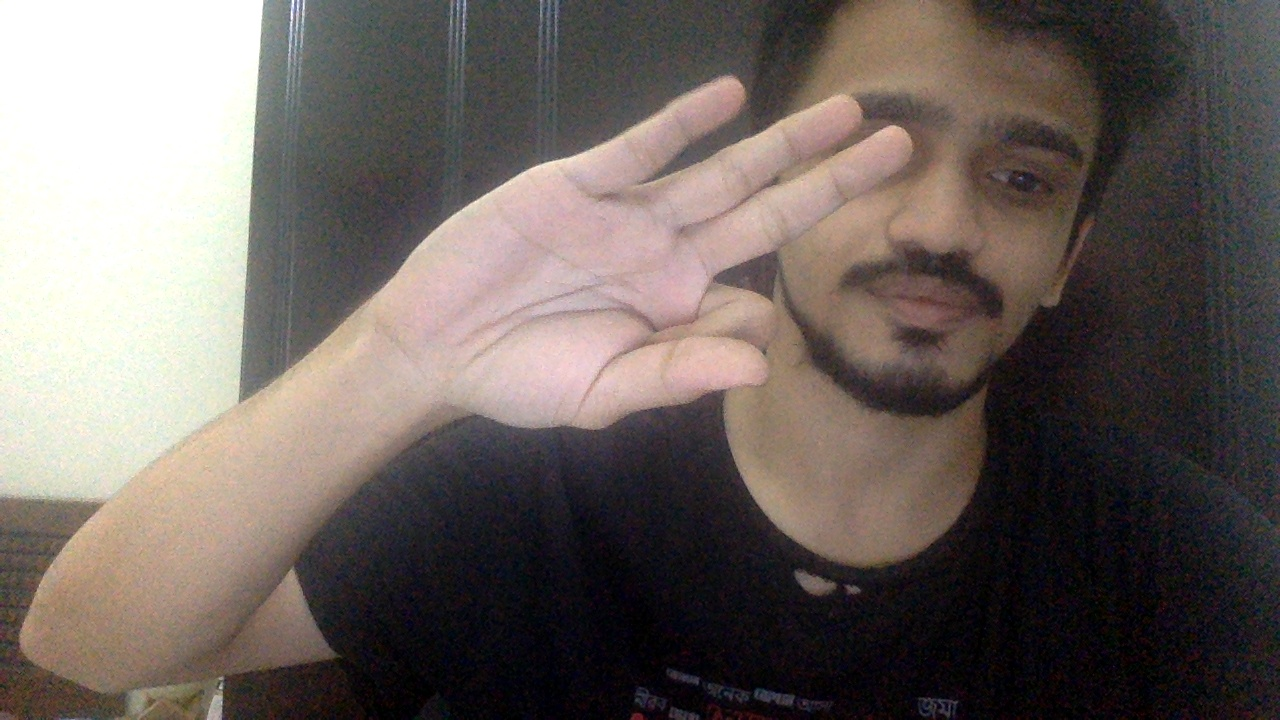perfect: (374, 74, 913, 434)
